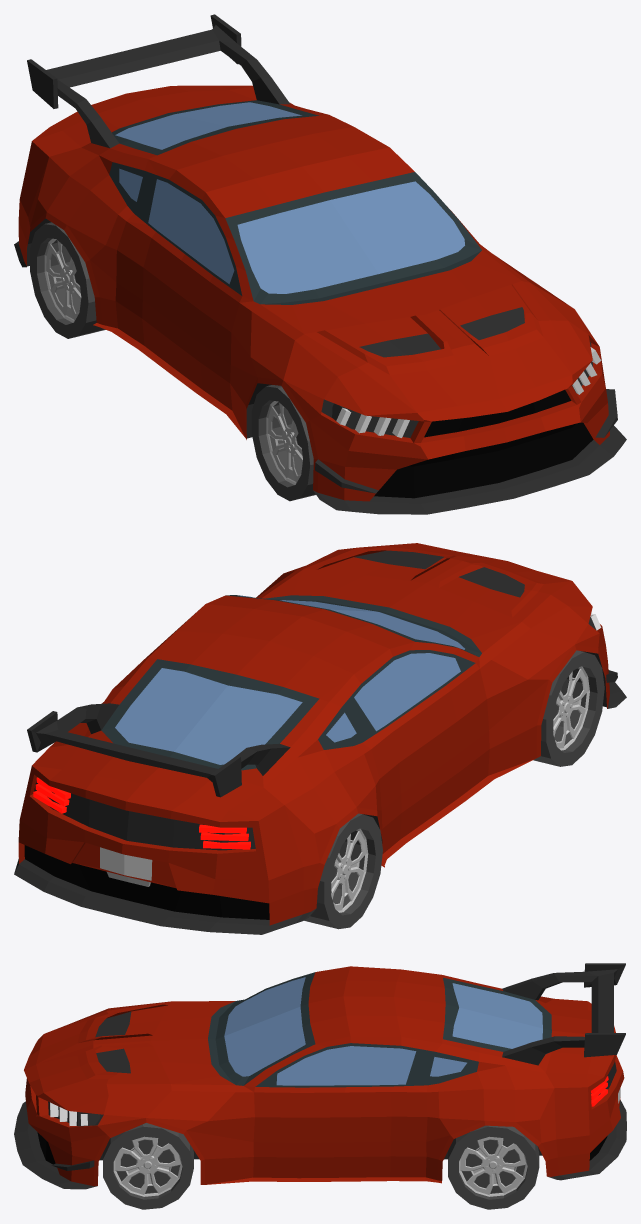
The model's file is ford.fbx.
3 renders of one model, top to bottom at view 1: azimuth 30°, elevation 25°; view 2: azimuth 150°, elevation 25°; view 3: azimuth 270°, elevation 25°, orthographic. The views are drawn at different scales.
Parts seen in each view (by area): view 1: car_ford, wheel_br_ford, wheel_fr_ford; view 2: car_ford, wheel_br_ford, wheel_fr_ford; view 3: car_ford, wheel_fl_ford, wheel_bl_ford.
Boxes of the visible parts, x1,y1,x2,y2 form: car_ford: (14,14,626,514); wheel_br_ford: (30,222,105,338); wheel_fr_ford: (251,385,315,501); car_ford: (14,543,626,934); wheel_br_ford: (304,813,382,929); wheel_fr_ford: (533,650,604,766); car_ford: (14,963,626,1189); wheel_fl_ford: (103,1123,193,1209); wheel_bl_ford: (448,1125,539,1209).
Bounding box in the file's own units: 220 × 142 × 499.
